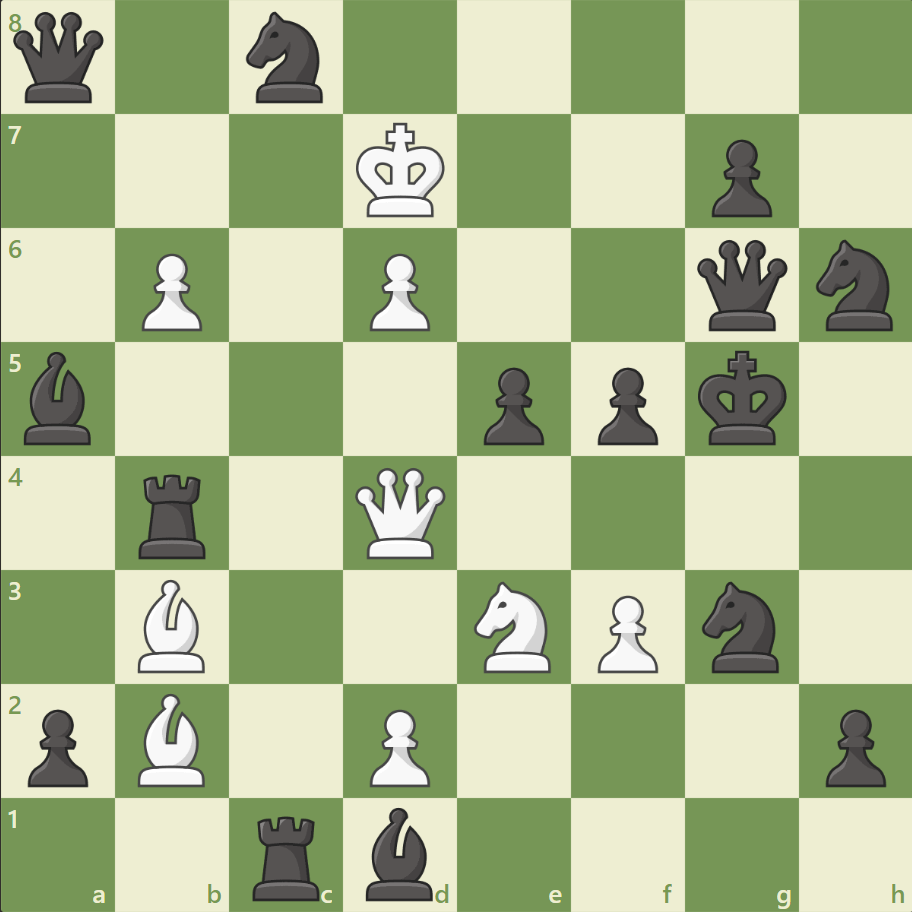B: (131, 687, 215, 790), (131, 574, 215, 676)
K: (351, 117, 451, 225)
N: (465, 575, 562, 677)
P: (133, 246, 208, 337), (361, 246, 435, 337), (588, 586, 662, 677), (361, 700, 435, 791)
Q: (351, 463, 450, 562)
b: (358, 801, 442, 904), (17, 347, 101, 449)
k: (692, 344, 792, 452)
n: (238, 7, 335, 110), (806, 234, 903, 337), (692, 575, 789, 677)
p: (701, 132, 776, 223), (474, 359, 549, 450), (20, 700, 95, 791), (588, 359, 662, 450), (815, 700, 889, 791)
q: (10, 9, 109, 108), (691, 236, 790, 335)
r: (246, 806, 329, 904), (133, 466, 215, 563)
